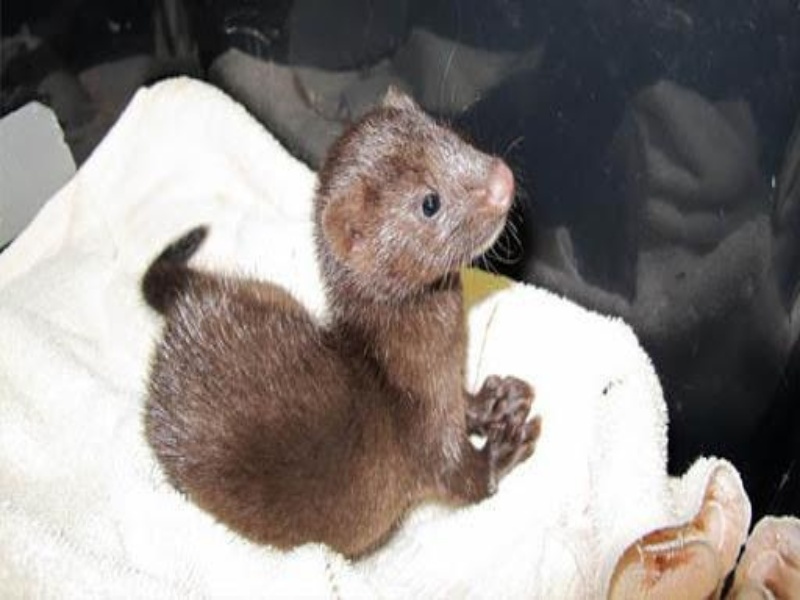minkish: (134, 88, 540, 568)
